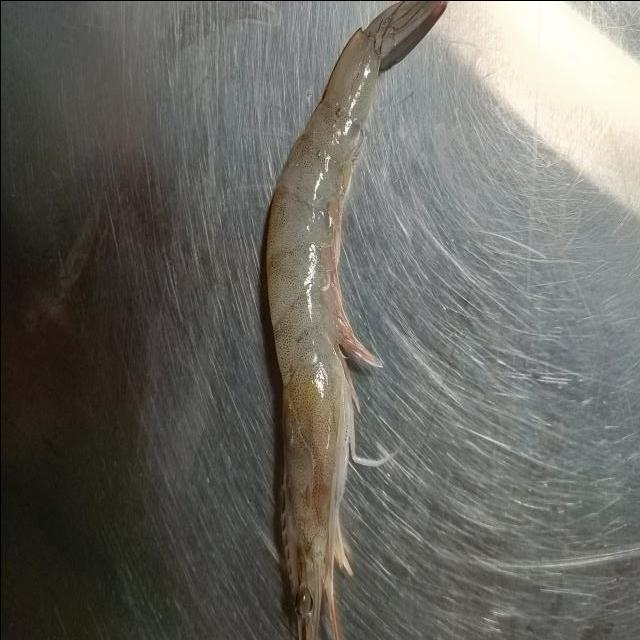shrimp: (265, 0, 452, 640)
